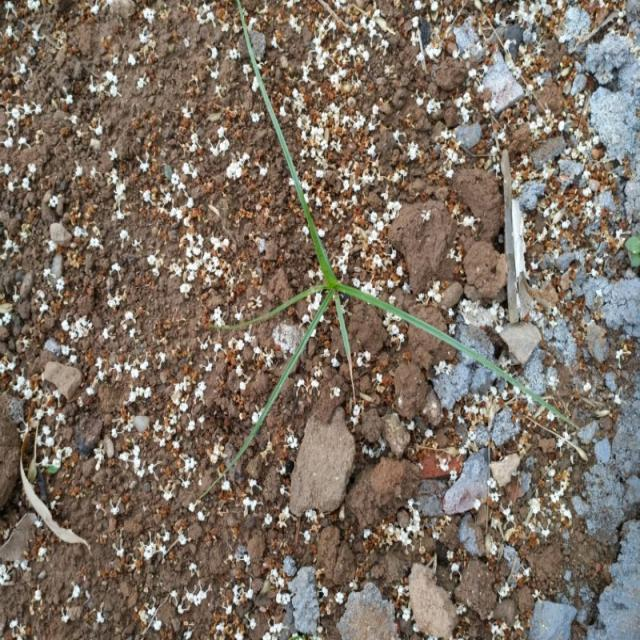sedge: (194, 86, 479, 483)
